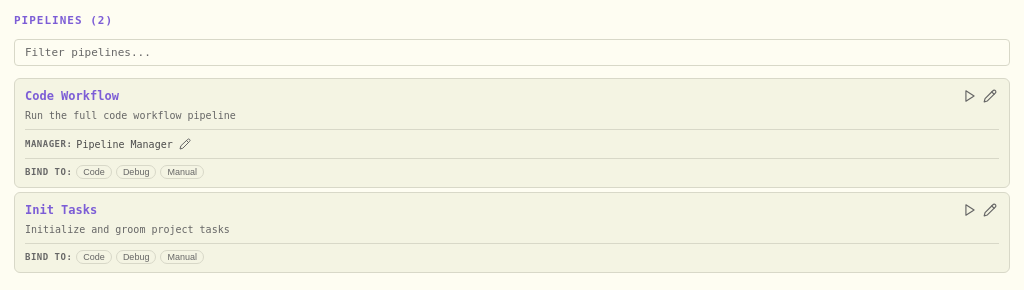
Test: PipelinesPanel › filters pipelines by description
Expected: the text "Code Workflow" is shown, [25,89,119,103]
Type "groom" into the field with placeholder "Filter pipelines..." at (512, 52), box [14,39,1010,66]
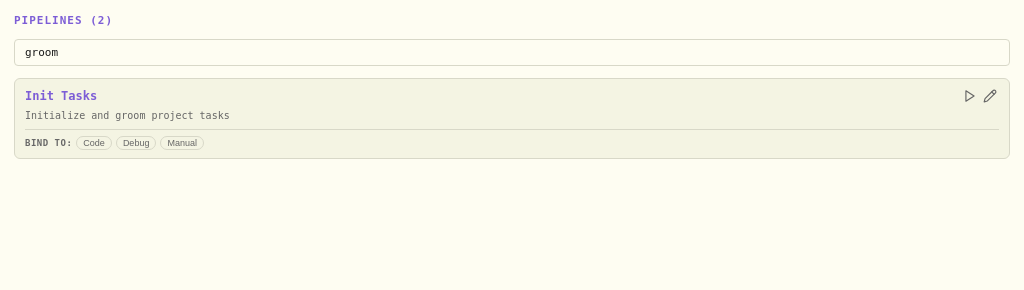
Expected: the text "Init Tasks" is shown, [25,89,97,103]
Expected: the text "Code Workflow" is gone
